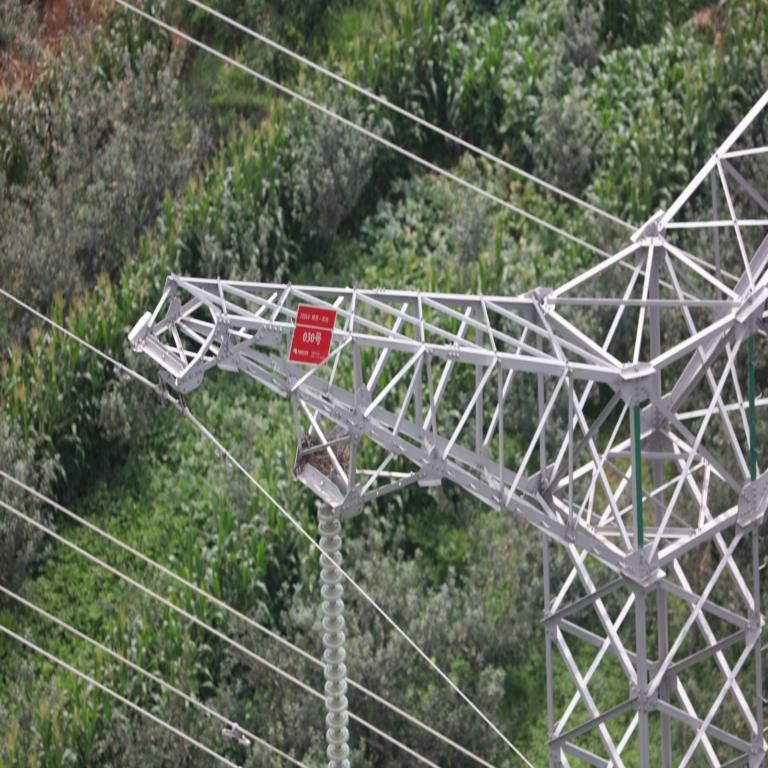nest: (297, 437, 352, 477)
